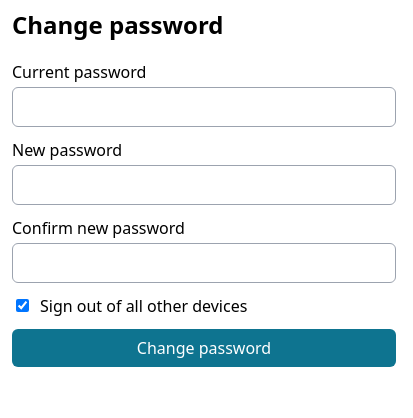
it: ChangePasswordPage › shows the server error, e.g. a wrong current password
The width and height of the screenshot is (413, 418).
In the password field labelled "Current password": (204, 107) [12,87,396,127], type "wrong"
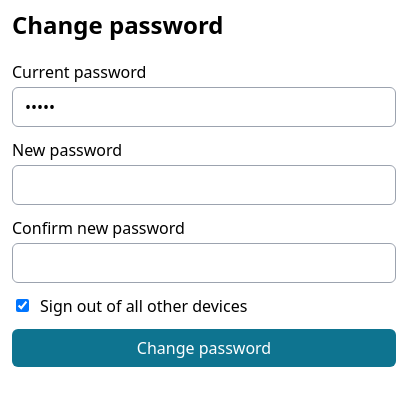
In the password field labelled "New password": (204, 185) [12,165,396,205], type "a-brand-new-password"
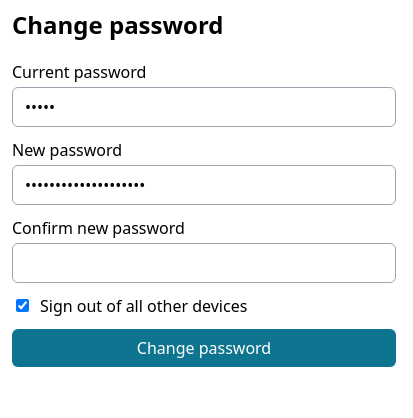
In the password field labelled "Confirm new password": (204, 263) [12,243,396,283], type "a-brand-new-password"
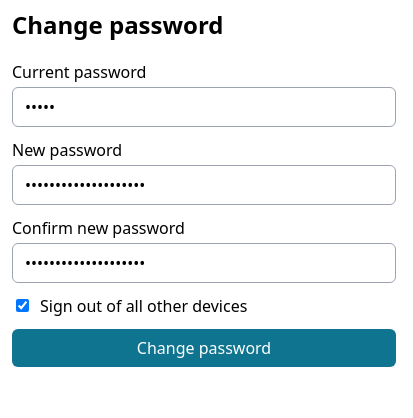
Click the button "Change password": (204, 348) [12,329,396,367]
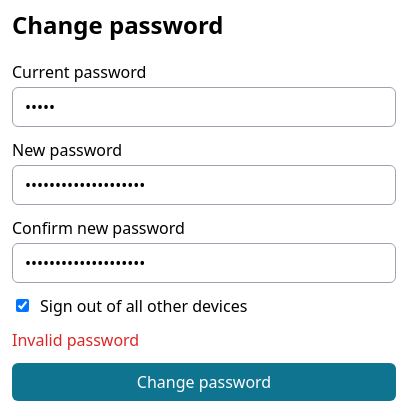
Expected: the text "Invalid password" is shown, [12,329,139,351]
